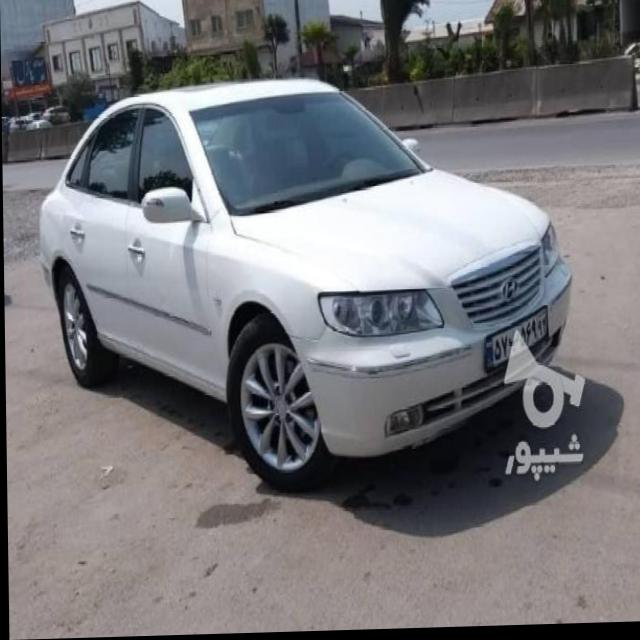licence: (477, 306, 547, 375)
